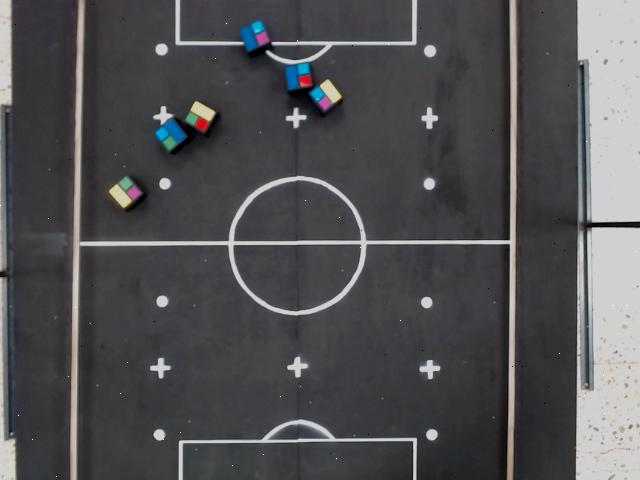robot: (151, 116, 190, 155), (106, 173, 146, 211), (307, 76, 344, 114), (182, 97, 218, 135), (238, 18, 272, 53), (283, 60, 313, 91)
